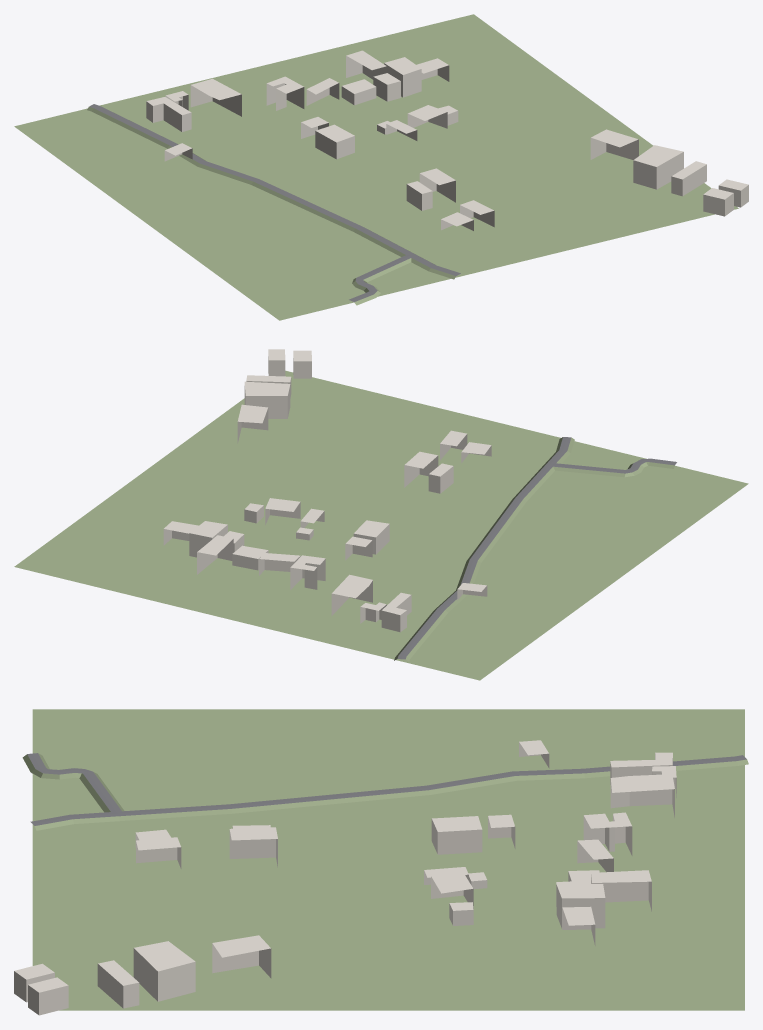
File: dhamrai_chunk_x0_z1.glb
The picture shows the model from 3 angles, top to bottom: view 1: azimuth 30°, elevation 25°; view 2: azimuth 150°, elevation 25°; view 3: azimuth 270°, elevation 25°; orthographic projection. The views are drawn at different scales.
Visible parts, largest first — view 1: terrain, buildings, roads, embankments; view 2: terrain, buildings, roads, embankments; view 3: terrain, buildings, embankments, roads.
Part boxes in pixels (x1,y1,x2,y2): terrain: (14,14,738,320); buildings: (146,50,748,230); roads: (89,104,460,302); embankments: (87,107,455,305); terrain: (14,370,748,680); buildings: (163,349,491,632); roads: (397,437,676,659); embankments: (394,437,674,661); terrain: (32,709,744,1010); buildings: (14,740,676,1015); embankments: (22,753,748,830); roads: (27,753,746,825).
Bounding box in the file's own units: 263 × 13.23 × 264.
